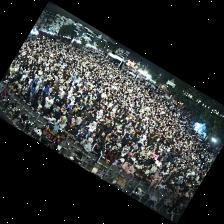person: (90, 143, 103, 166), (42, 96, 52, 115), (52, 93, 62, 111), (64, 122, 76, 137), (104, 149, 116, 164), (79, 137, 91, 152), (103, 138, 113, 154), (121, 161, 133, 174), (45, 111, 58, 123), (58, 100, 69, 114), (54, 116, 66, 128), (133, 167, 145, 179), (75, 125, 87, 136), (70, 117, 80, 130), (39, 79, 47, 95), (86, 121, 95, 135), (156, 179, 167, 190), (75, 131, 85, 143), (34, 99, 44, 111), (143, 173, 153, 185), (63, 110, 71, 125), (80, 107, 89, 120), (20, 89, 29, 102), (28, 82, 34, 101), (87, 133, 97, 144), (137, 156, 148, 166), (164, 183, 175, 193), (95, 132, 106, 142), (85, 113, 95, 124), (29, 94, 37, 107), (149, 150, 159, 160), (113, 158, 124, 167), (120, 146, 129, 156), (153, 172, 163, 181), (102, 123, 111, 133), (148, 163, 157, 173), (132, 160, 141, 170), (51, 80, 58, 92), (111, 140, 120, 149), (79, 114, 85, 127), (45, 84, 51, 96), (104, 133, 113, 141), (123, 153, 132, 161), (33, 81, 39, 93), (139, 148, 148, 156), (149, 180, 157, 188), (10, 84, 18, 92), (131, 152, 138, 161), (144, 165, 151, 174), (95, 110, 102, 119), (154, 158, 162, 165), (5, 79, 12, 87), (49, 143, 56, 151), (116, 148, 121, 159), (173, 185, 178, 196), (169, 177, 178, 183), (154, 166, 161, 173)
